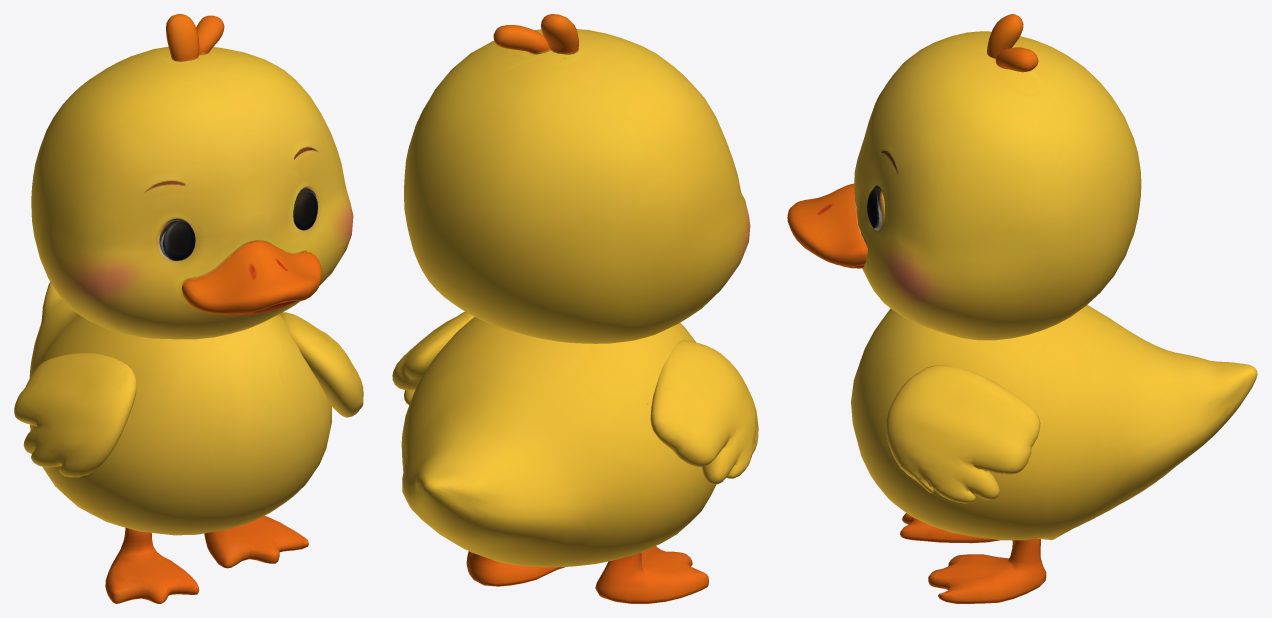
File: tripo_convert_be529e0e-f167-42da-845e-feae6c855906.fbx
The picture shows the model from 3 angles, left to right: view 1: azimuth 30°, elevation 25°; view 2: azimuth 150°, elevation 25°; view 3: azimuth 270°, elevation 25°; orthographic projection. The views are drawn at different scales.
Parts seen in each view (by area): view 1: tripo_node_be529e0e; view 2: tripo_node_be529e0e; view 3: tripo_node_be529e0e.
Boxes of the visible parts, x1,y1,x2,y2 form: tripo_node_be529e0e: (14,14,363,603); tripo_node_be529e0e: (392,14,758,603); tripo_node_be529e0e: (787,14,1257,603).
Size of the model in its own units: 0.6108 by 0.9995 by 0.7808.
1 material, 1 textured.
